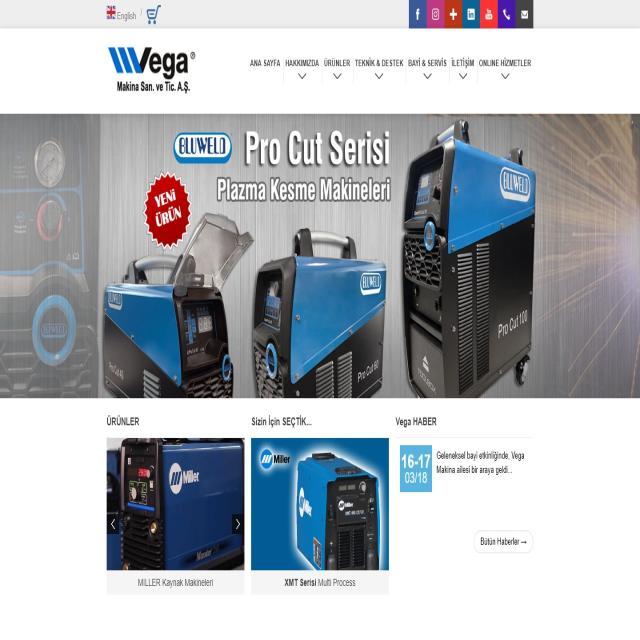button: (354, 55, 406, 89), (478, 56, 534, 86), (473, 530, 533, 554), (407, 56, 449, 84), (283, 57, 323, 84), (247, 54, 283, 80), (322, 55, 353, 83), (105, 1, 139, 25), (451, 57, 476, 87), (461, 0, 479, 28), (498, 0, 515, 29), (444, 1, 462, 27), (480, 0, 497, 27), (517, 0, 533, 27), (145, 4, 166, 24), (428, 0, 443, 28), (410, 0, 425, 27)
heading: (240, 125, 389, 170), (104, 40, 200, 80)
image: (0, 116, 640, 398), (251, 438, 389, 572), (106, 437, 244, 569), (102, 36, 201, 102), (399, 443, 433, 493)
text: (209, 170, 392, 207), (437, 450, 526, 477), (149, 185, 184, 231), (112, 79, 193, 98), (172, 135, 231, 159), (282, 576, 360, 592), (137, 575, 215, 589), (250, 414, 308, 427), (106, 412, 142, 431), (394, 414, 440, 426)
